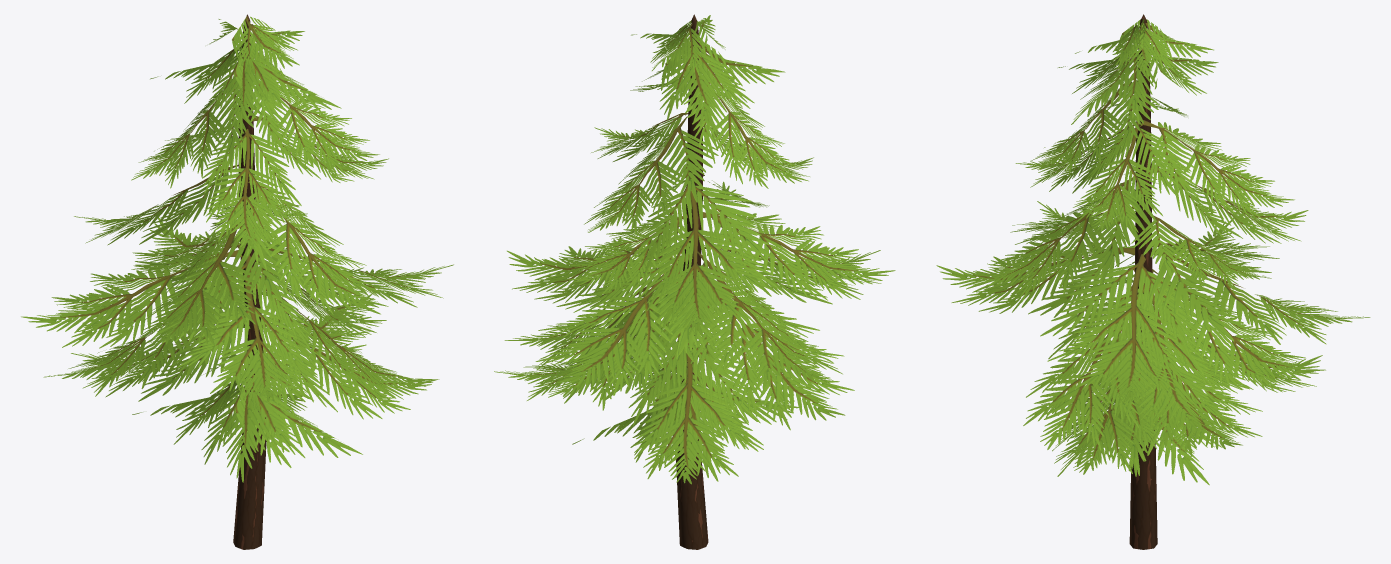
The model's file is pine-5.glb.
The picture shows the model from 3 angles, left to right: view 1: azimuth 30°, elevation 25°; view 2: azimuth 150°, elevation 25°; view 3: azimuth 270°, elevation 25°; orthographic projection.
Parts seen in each view (by area): view 1: PineTree_5; view 2: PineTree_5; view 3: PineTree_5.
Part boxes in pixels (x1,y1,x2,y2): PineTree_5: (21,14,453,549); PineTree_5: (494,14,895,549); PineTree_5: (936,14,1370,549).
Bounding box in the file's own units: 3.31 × 4.3 × 3.29.
2 materials, 2 textured.
